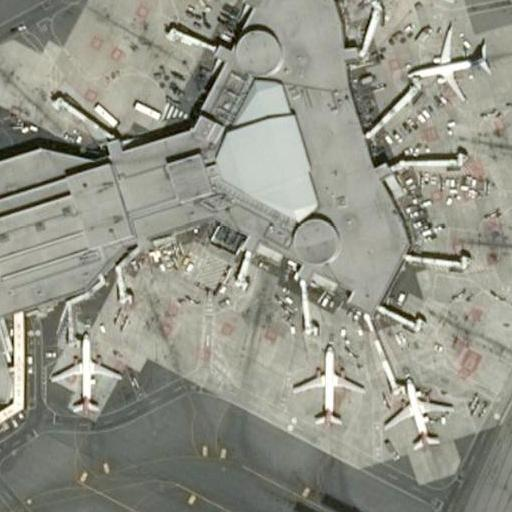Aircraft: (405, 27, 500, 93), (383, 363, 453, 450), (40, 335, 111, 408), (296, 346, 351, 431), (362, 0, 475, 2)
